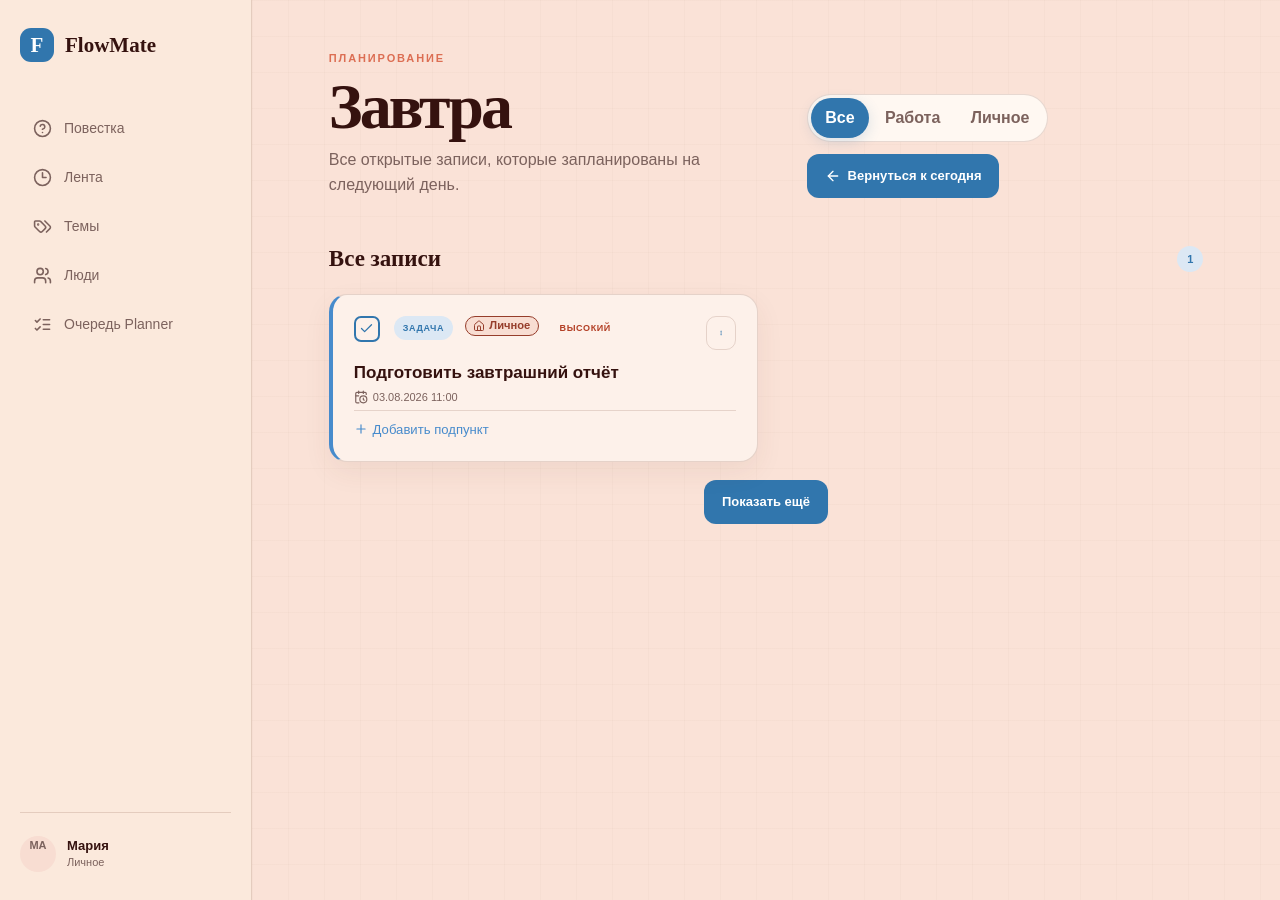
Scenario: Tomorrow page › renders tomorrow items and loads the next page
Check: the heading "Завтра" is shown, box [329, 71, 510, 142]
Check: the button "Подготовить завтрашний отчёт" is shown, box [354, 363, 619, 383]
Click the button "Показать ещё". click: (766, 502)
box: [704, 480, 828, 524]
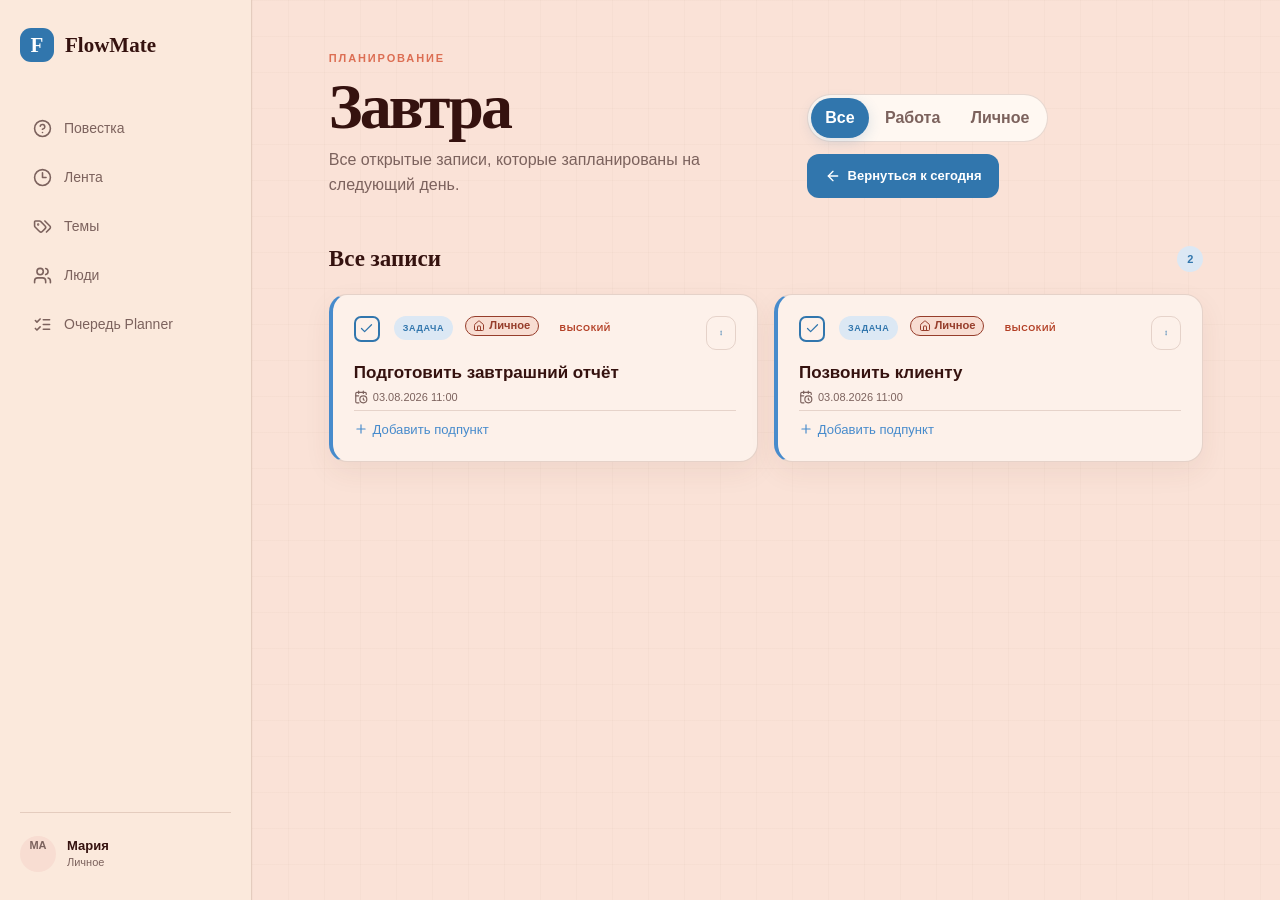
Check: the button "Позвонить клиенту" is shown, box [799, 363, 963, 383]
